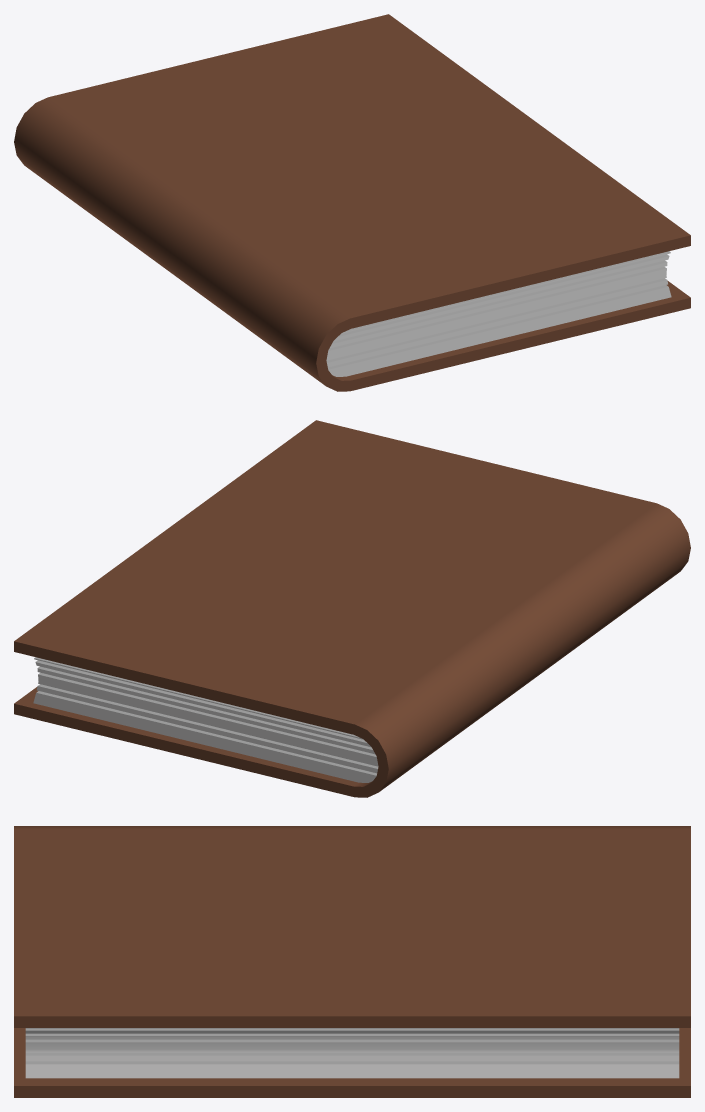
File: Book.fbx
3 views of the same model, one above another, from view 1: azimuth 30°, elevation 25°; view 2: azimuth 150°, elevation 25°; view 3: azimuth 270°, elevation 25° (orthographic). The views are drawn at different scales.
Visible parts, largest first — view 1: polySurface2, polySurface1; view 2: polySurface2, polySurface1; view 3: polySurface2, polySurface1.
Part boxes in pixels (box(x1,y1,x2,y2)): polySurface2: box(14, 14, 690, 391); polySurface1: box(326, 251, 671, 376); polySurface2: box(14, 420, 690, 797); polySurface1: box(33, 657, 378, 782); polySurface2: box(14, 826, 690, 1097); polySurface1: box(25, 1028, 679, 1078).
Bounding box in the file's own units: 7.42 × 1.38 × 10.36.
